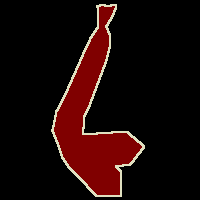tie: (52, 4, 144, 196)
